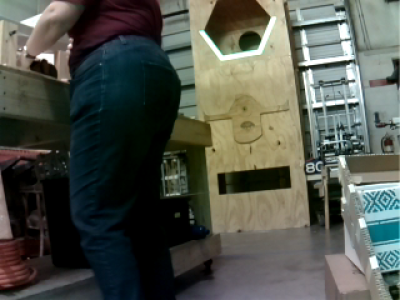target: (198, 15, 277, 61)
